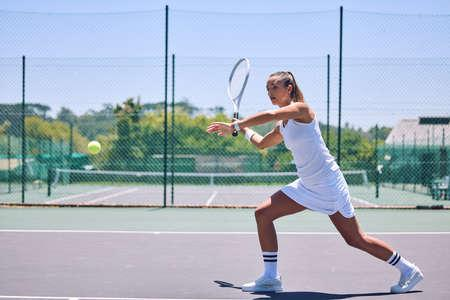ball_tennis: (86, 140, 102, 155)
